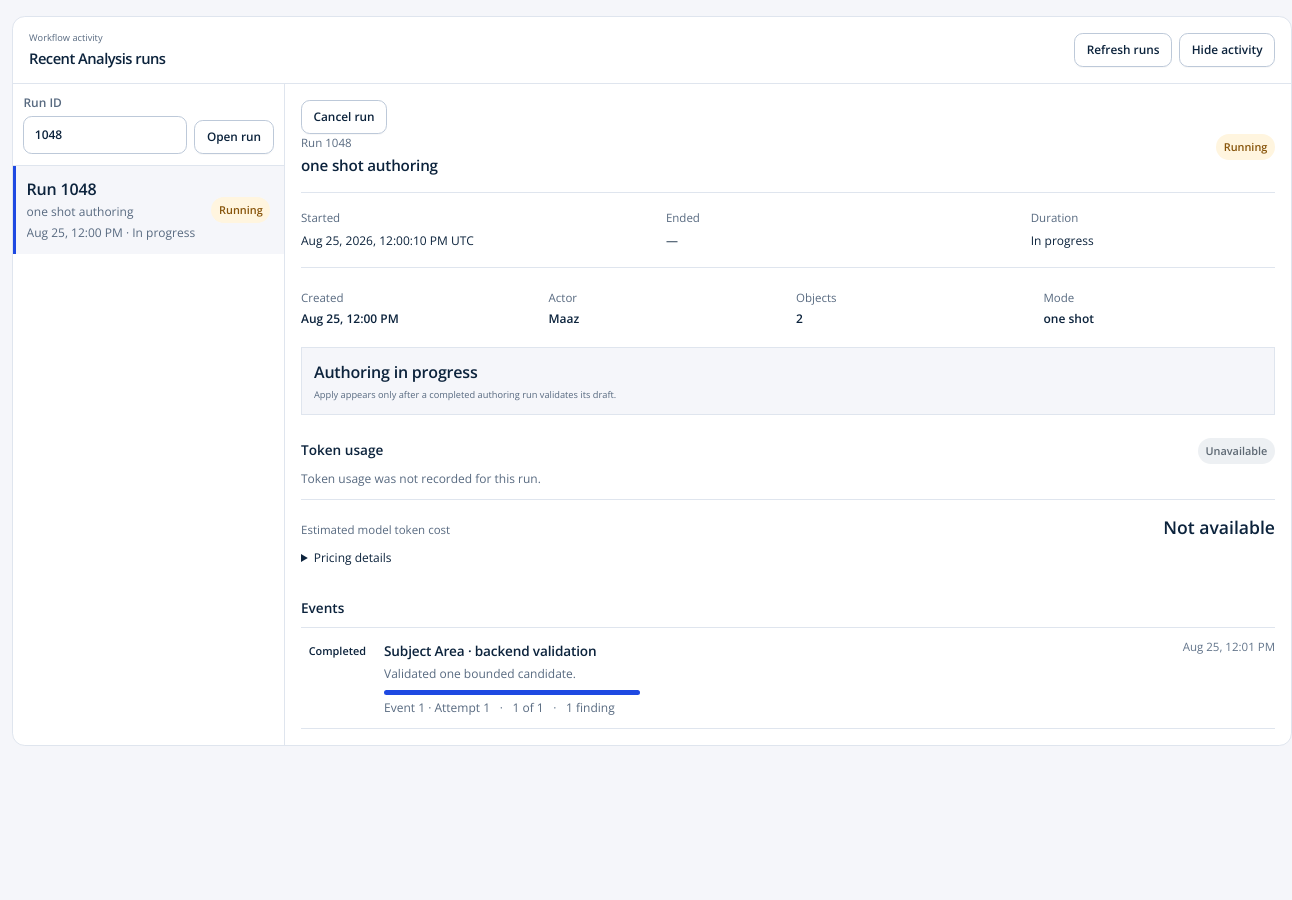
Test: Workflow Run monitor › cancels a running analysis run and refreshes its saved status
Step 1. Click the button "Cancel run" → (344, 117), box 301,100 -> 387,134
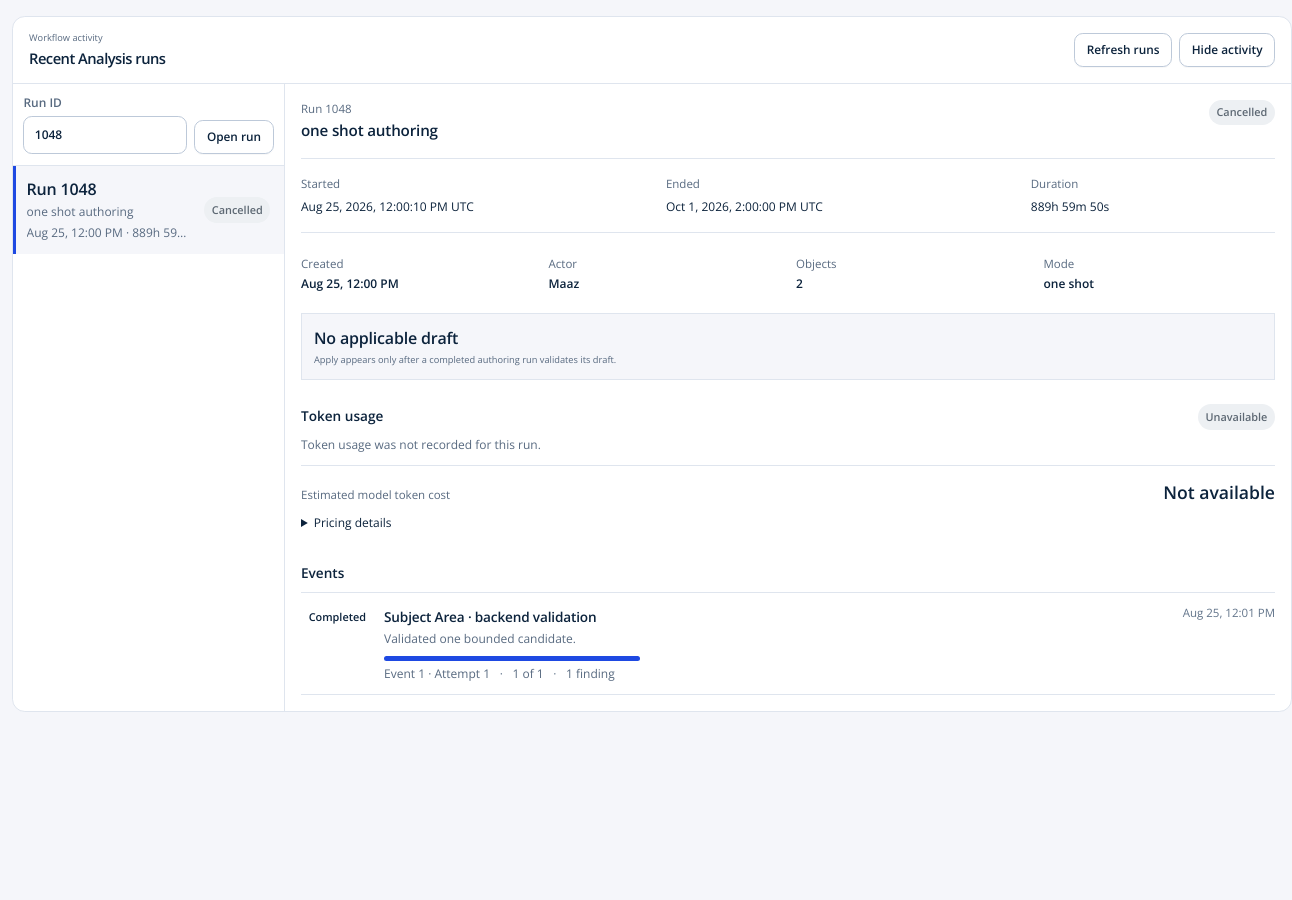
Expected: the button "Cancel run" is gone
Expected: the text "Cancelled" below "Run ID" is shown, 212,202 -> 263,216
